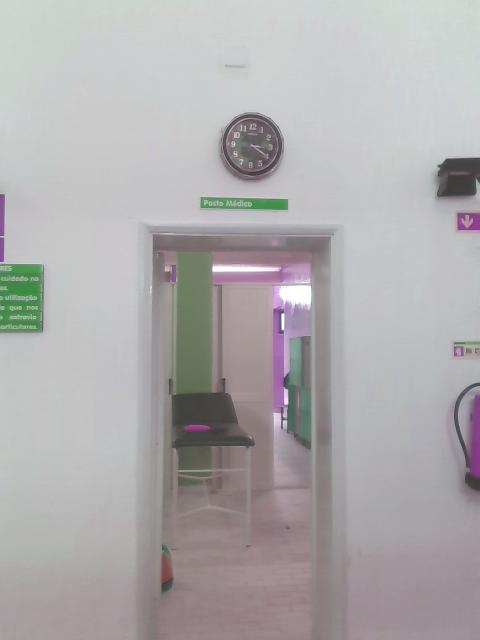open_door: (134, 217, 347, 639)
